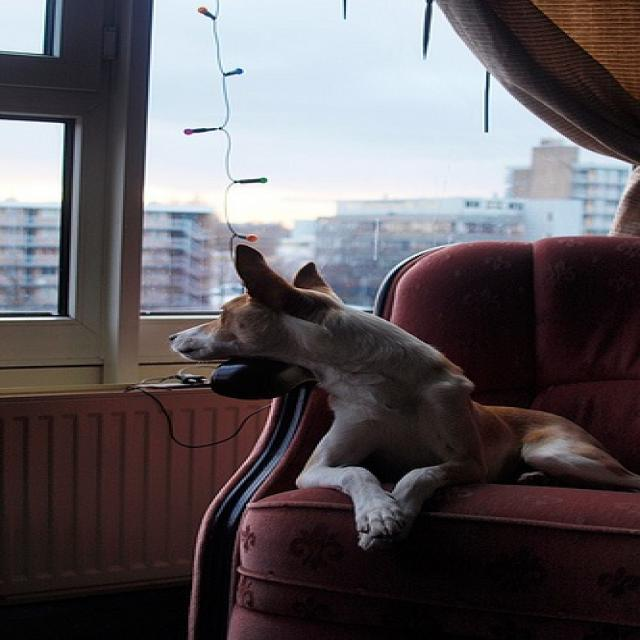dog: (165, 242, 638, 548)
